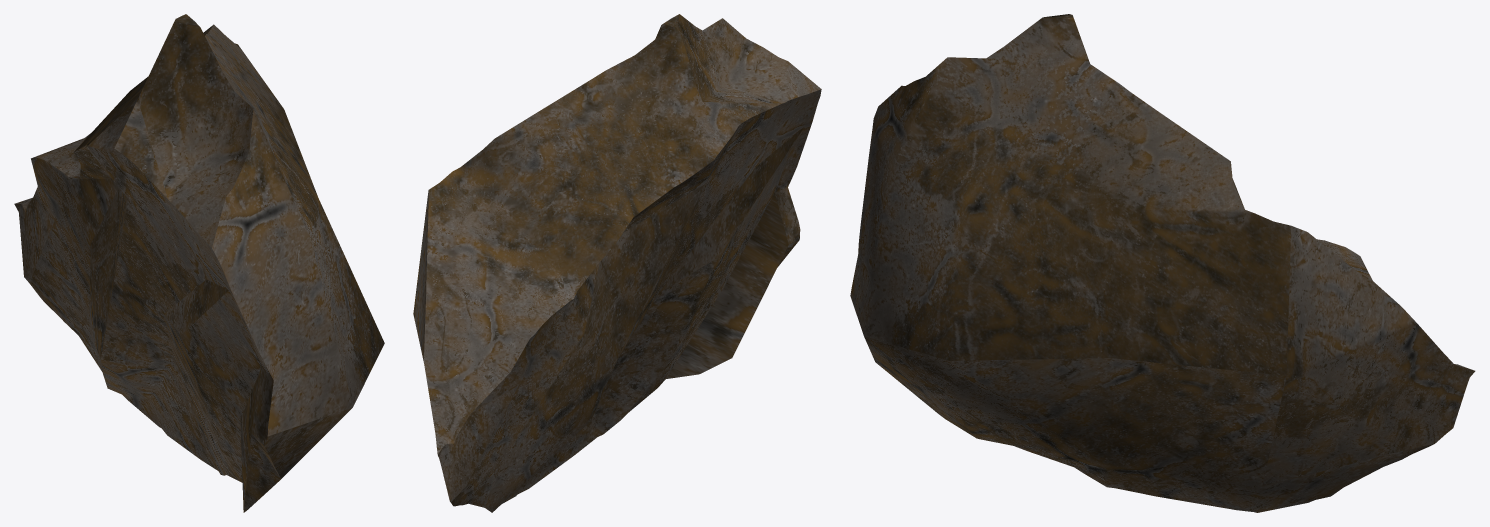
File: RockShard6.fbx
3 views of the same model, side by side, from view 1: azimuth 30°, elevation 25°; view 2: azimuth 150°, elevation 25°; view 3: azimuth 270°, elevation 25° (orthographic). The views are drawn at different scales.
Parts seen in each view (by area): view 1: RockShard6; view 2: RockShard6; view 3: RockShard6.
Part boxes in pixels (x1,y1,x2,y2): RockShard6: (14,14,384,512); RockShard6: (413,14,821,512); RockShard6: (850,14,1475,512).
Size of the model in its own units: 32.78 by 60.61 by 74.37.
